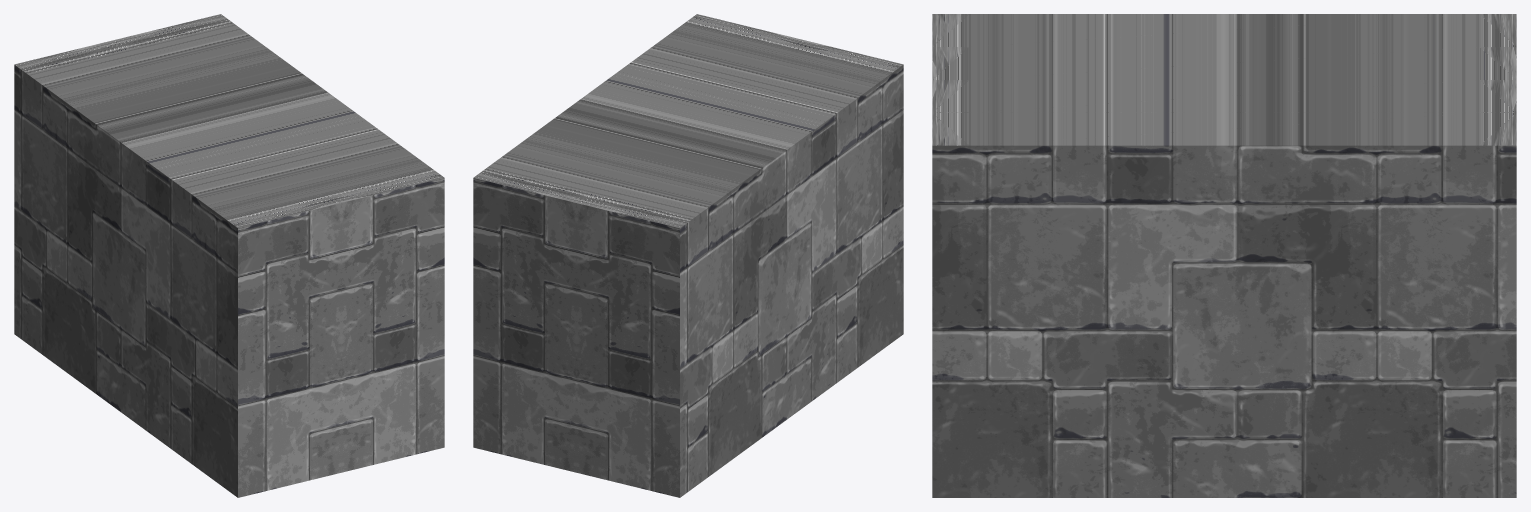
Rendered from Puente_balostres_Base_B.fbx.
3 views of the same model, side by side, from view 1: azimuth 30°, elevation 25°; view 2: azimuth 150°, elevation 25°; view 3: azimuth 270°, elevation 25° (orthographic). The views are drawn at different scales.
Visible parts, largest first — view 1: Puente_Balostres_base_B_LOD0; view 2: Puente_Balostres_base_B_LOD0; view 3: Puente_Balostres_base_B_LOD0.
Boxes of the visible parts, bbox=[...] form: Puente_Balostres_base_B_LOD0: bbox=[14, 14, 444, 497]; Puente_Balostres_base_B_LOD0: bbox=[473, 14, 903, 497]; Puente_Balostres_base_B_LOD0: bbox=[932, 14, 1516, 497].
Size of what is drawn, in the model's own units: 160 by 199 by 300.
